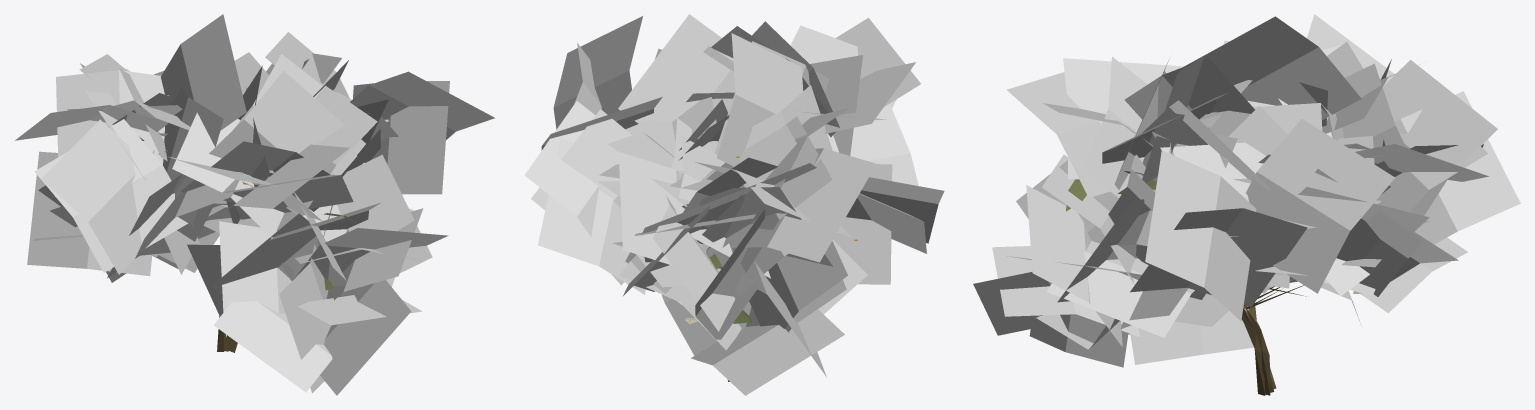
File: Fond_Ciste_0.fbx
3 renders of one model, left to right at view 1: azimuth 30°, elevation 25°; view 2: azimuth 150°, elevation 25°; view 3: azimuth 270°, elevation 25°, orthographic. The views are drawn at different scales.
Visible parts, largest first — view 1: Fond_Ciste_0; view 2: Fond_Ciste_0; view 3: Fond_Ciste_0.
Part boxes in pixels (x1,y1,x2,y2): Fond_Ciste_0: (15, 14, 494, 395); Fond_Ciste_0: (524, 14, 944, 395); Fond_Ciste_0: (973, 14, 1520, 395).
Size of the model in its own units: 172 by 135 by 178.
